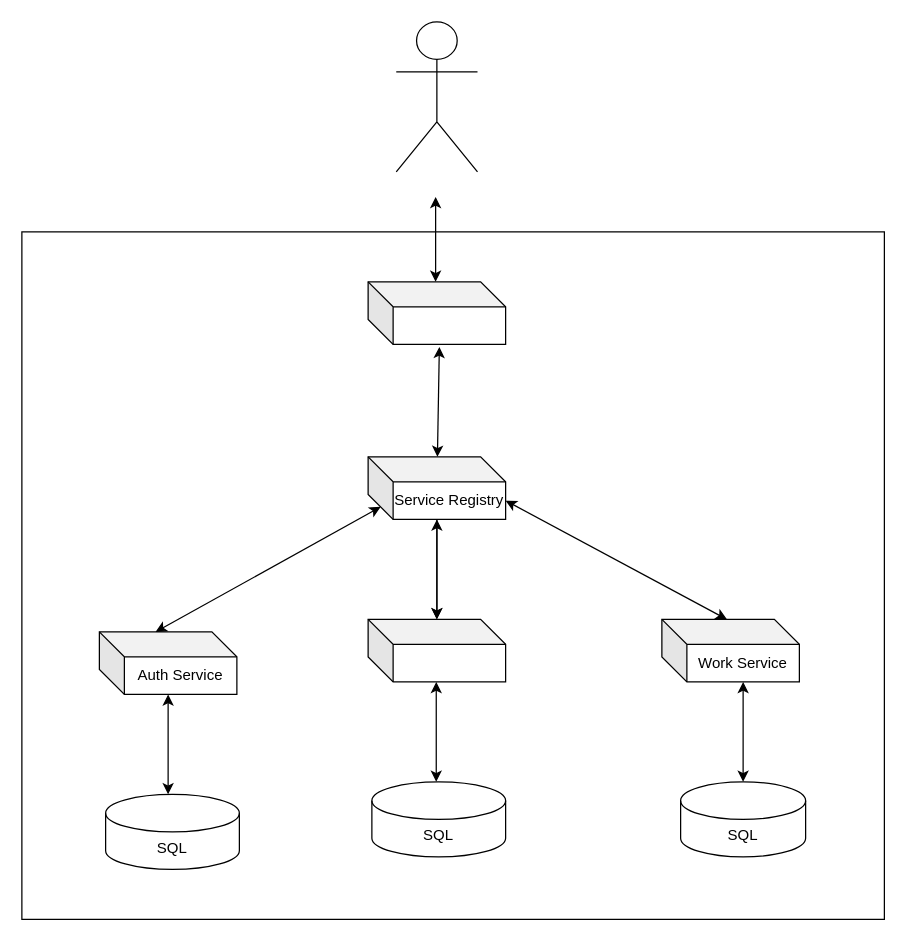
Image size: 906x941. Some labels were removed from this diagram. The shapes that lost their labels are listed below. From the top down, each one's centre as x and y in pixels, then its label:
point 436,96: Member
point 436,312: API Gateway
point 436,650: Post Service
